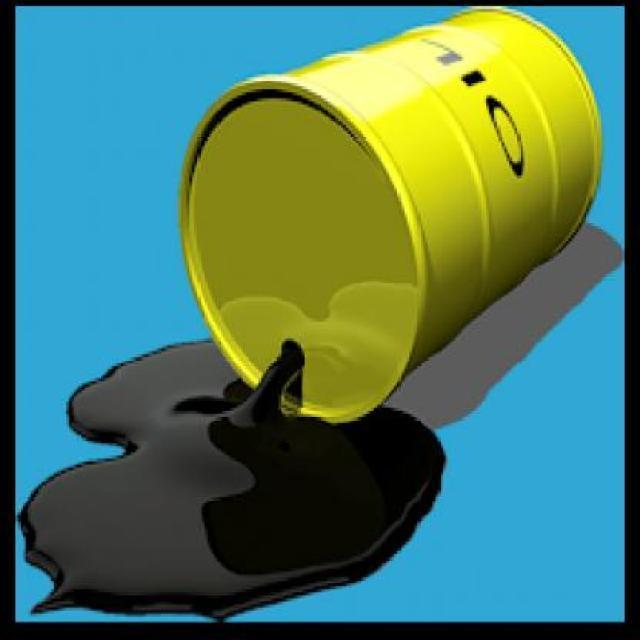spillage: (23, 339, 448, 622)
